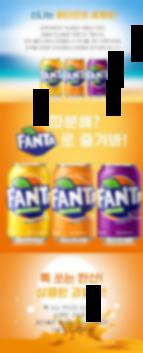fanta_orange: (52, 161, 100, 248), (62, 55, 88, 100)
